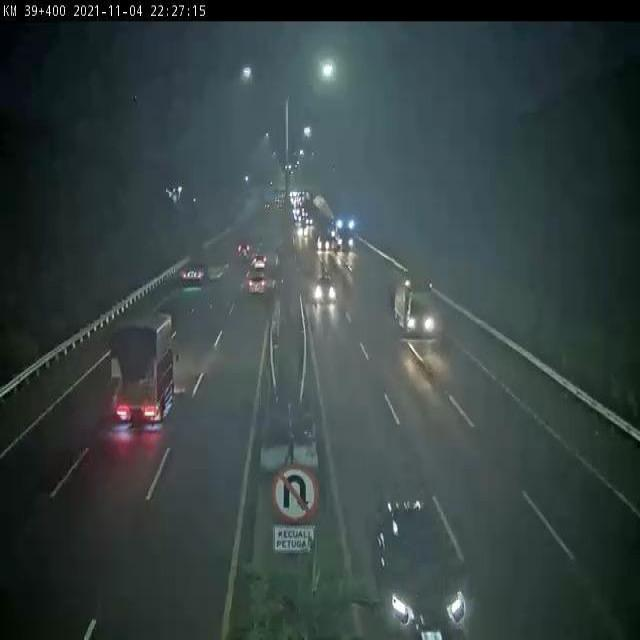car: (371, 497, 466, 640), (247, 270, 270, 294), (314, 275, 335, 300), (252, 248, 268, 271), (235, 241, 251, 259)
truck-m-: (107, 308, 173, 427), (393, 274, 437, 338), (179, 246, 212, 282)
